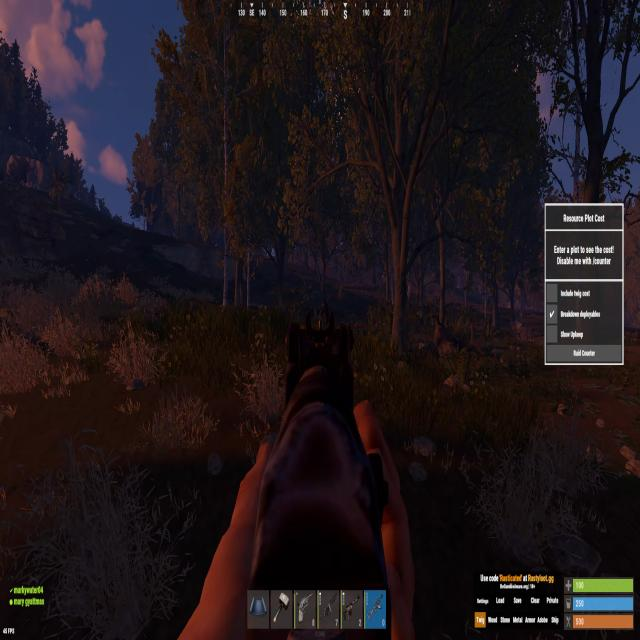Player: (320, 299, 330, 329)
